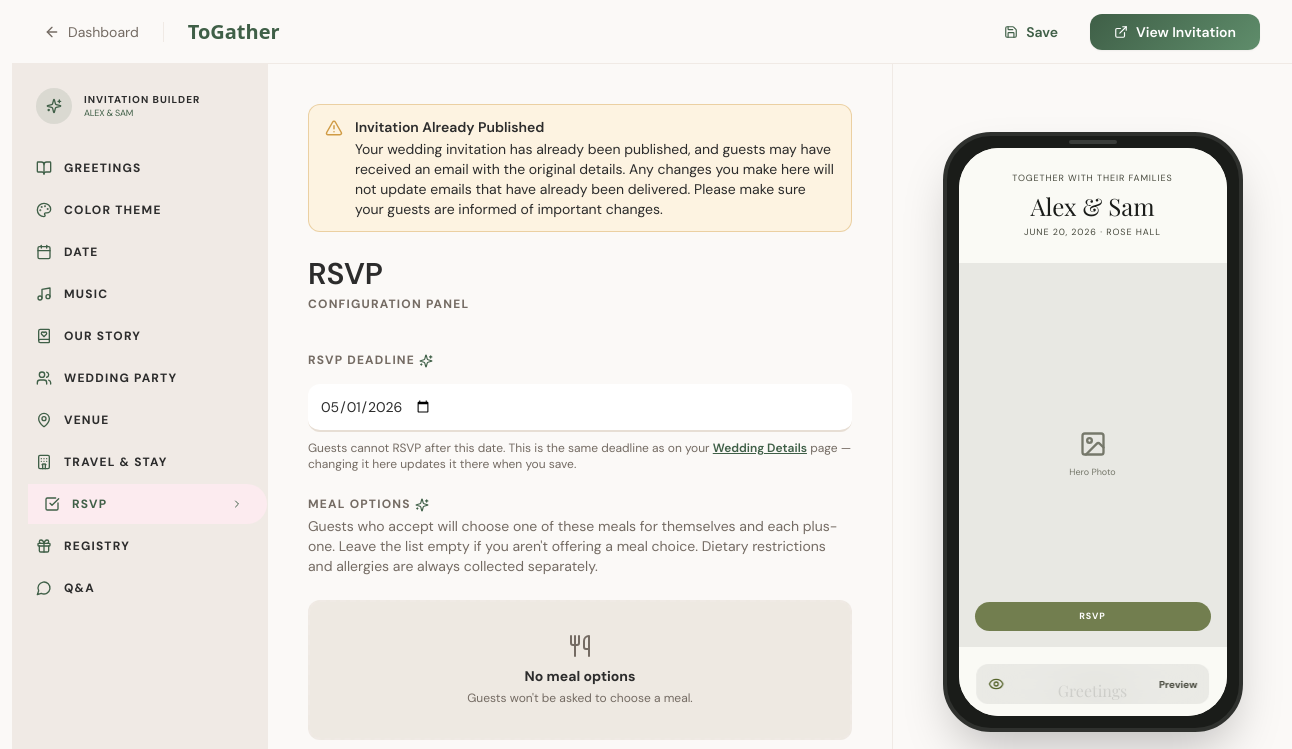
Test: RSVP tab — deadline › can't clear a saved deadline
The width and height of the screenshot is (1292, 749).
Clear the date field named "RSVP deadline": (580, 408) [308,384,852,432]
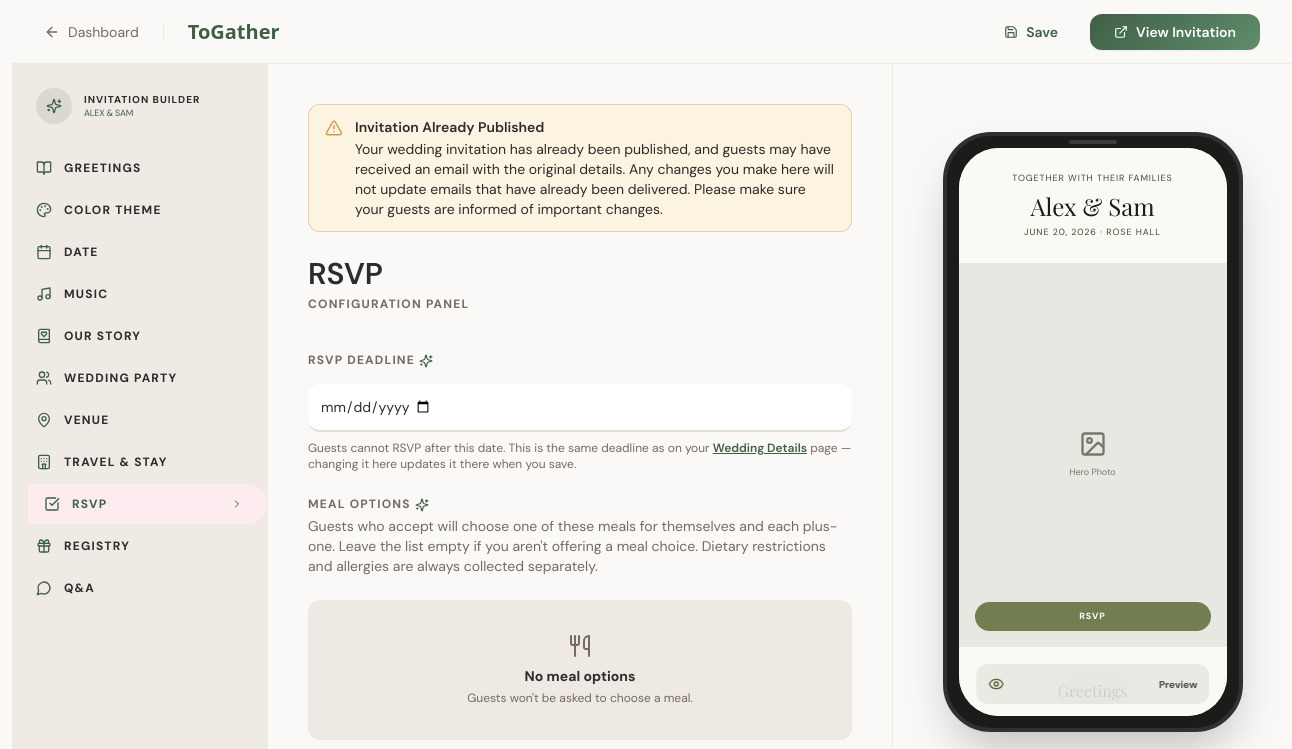
Click the button "Save": (1031, 32) [984,14,1078,50]
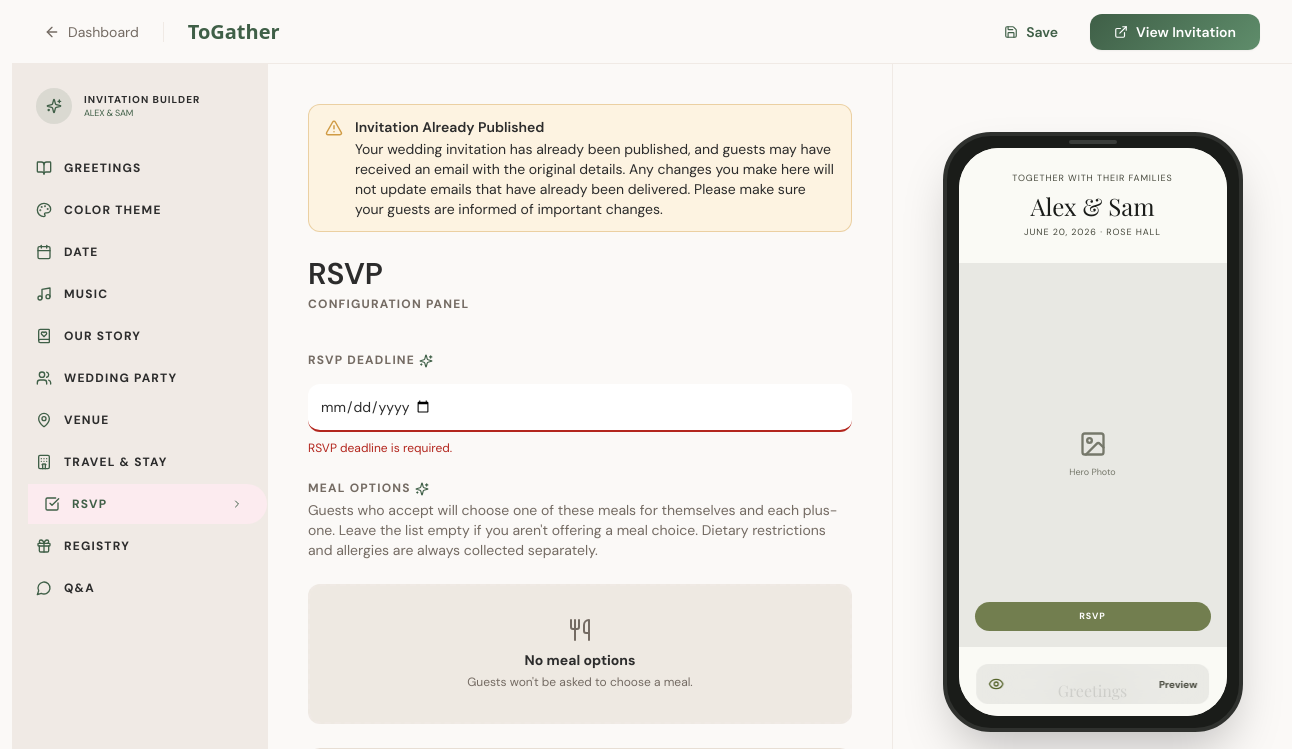
expect the text "RSVP deadline is required." is shown: met, box [308,440,452,456]
